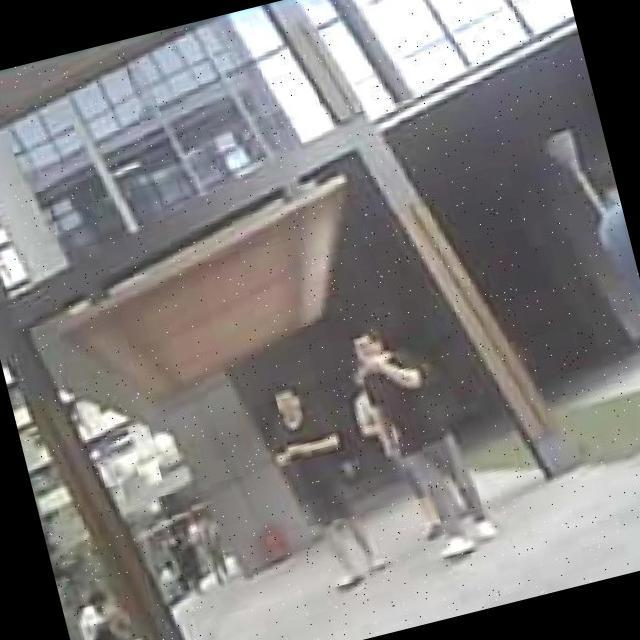person: (346, 314, 499, 568), (258, 371, 392, 600), (340, 344, 458, 552), (582, 163, 640, 386), (188, 508, 234, 588), (71, 585, 137, 640), (166, 518, 210, 592)
